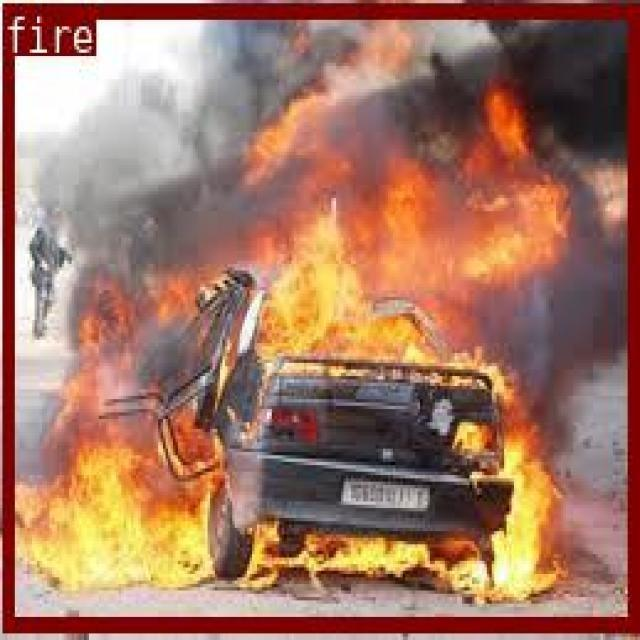fire: (2, 0, 635, 627)
